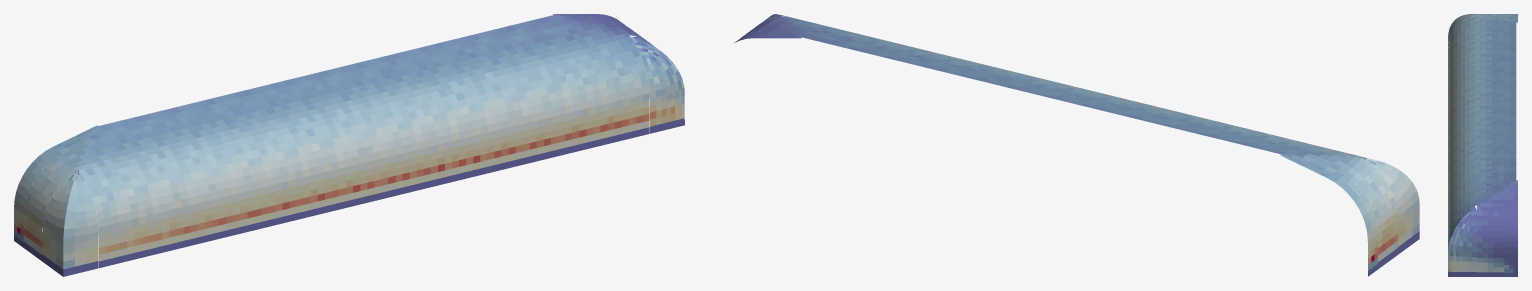
File: ShadingEffectiveness.gltf
3 views of the same model, side by side, from view 1: azimuth 30°, elevation 25°; view 2: azimuth 150°, elevation 25°; view 3: azimuth 270°, elevation 25° (orthographic). The views are drawn at different scales.
Visible parts, largest first — view 1: ShadingEffectiveness; view 2: ShadingEffectiveness; view 3: ShadingEffectiveness.
Part boxes in pixels (<box>): ShadingEffectiveness: <box>14,14,684,276</box>; ShadingEffectiveness: <box>734,14,1419,276</box>; ShadingEffectiveness: <box>1448,14,1517,276</box>.
Size of the model in its own units: 35.68 by 5.22 by 4.9.
